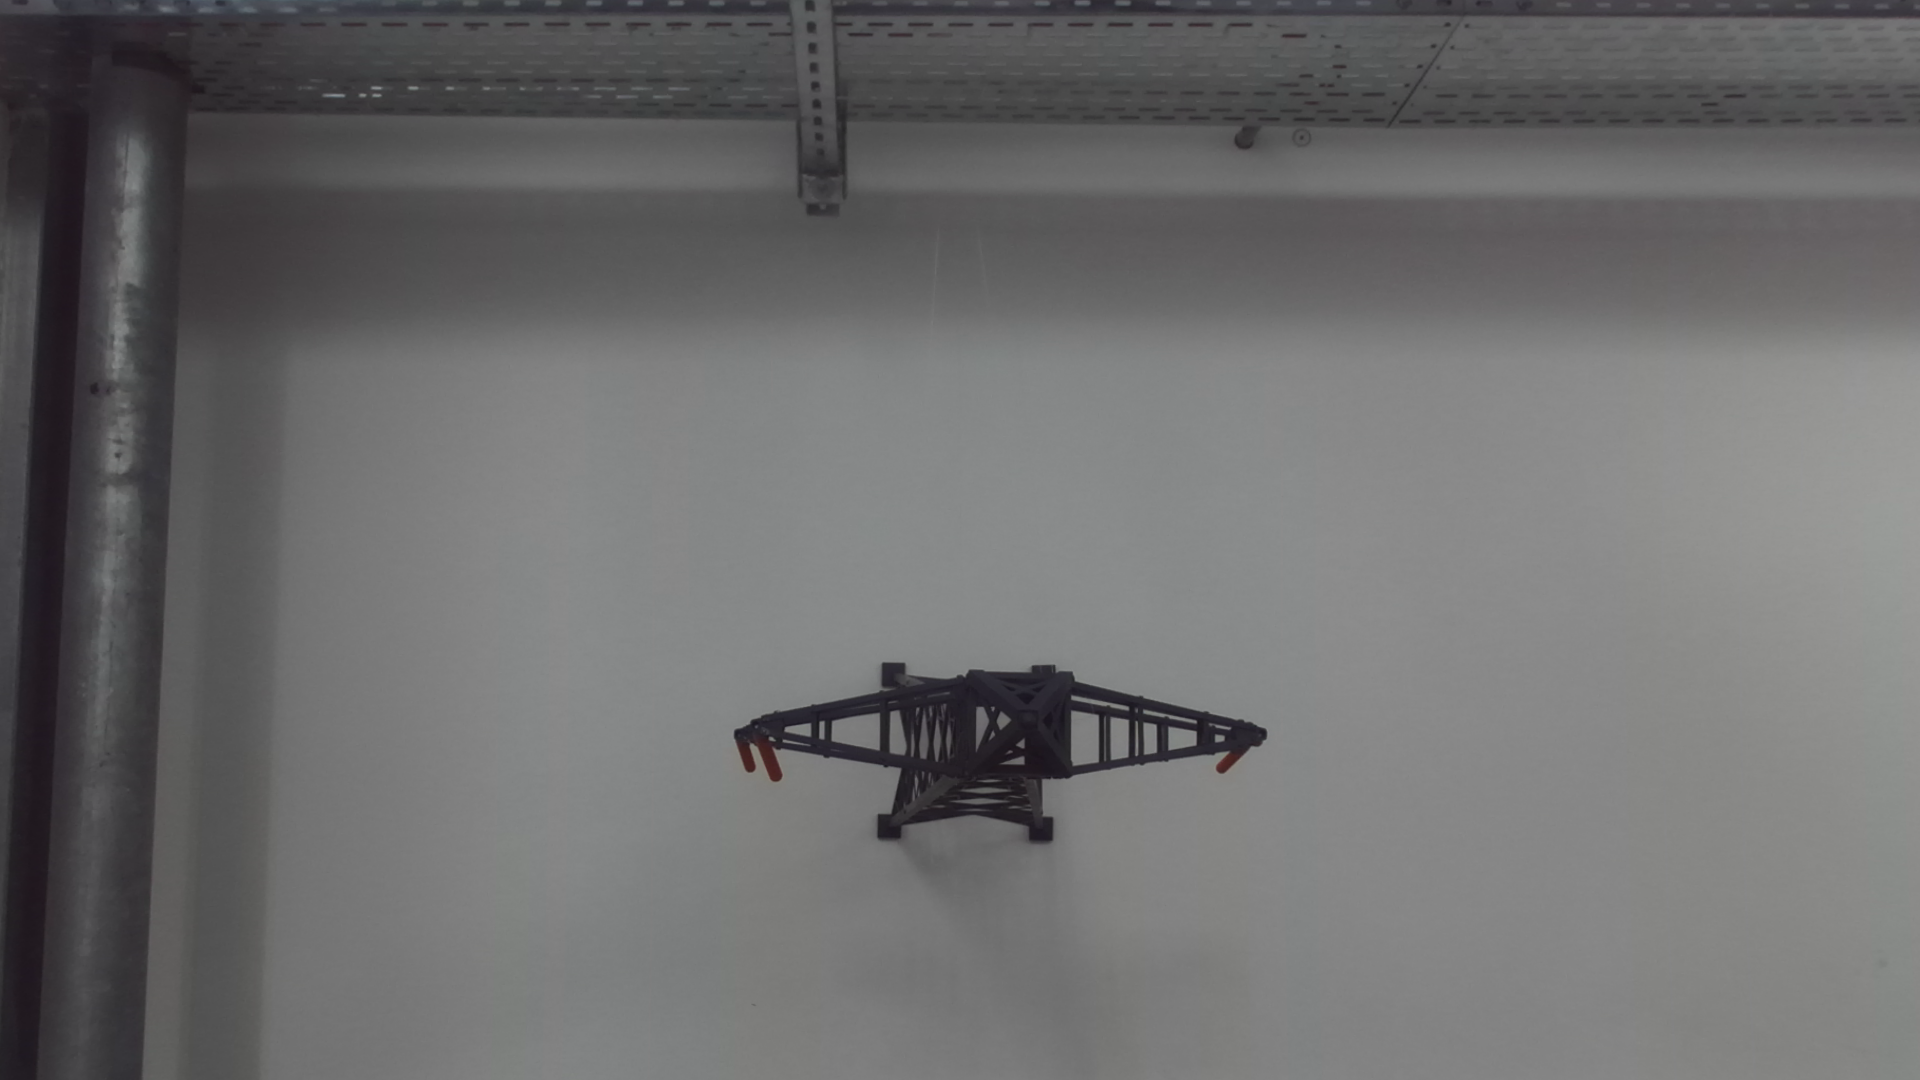pylon_phy: (749, 667, 1269, 781)
